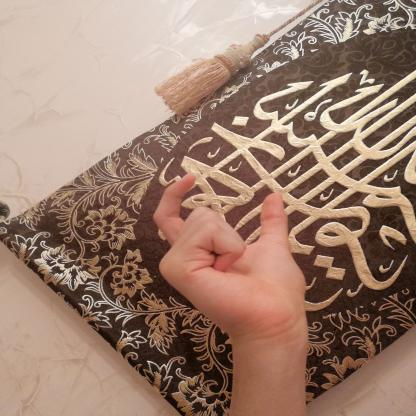NOON: (135, 166, 322, 343)
